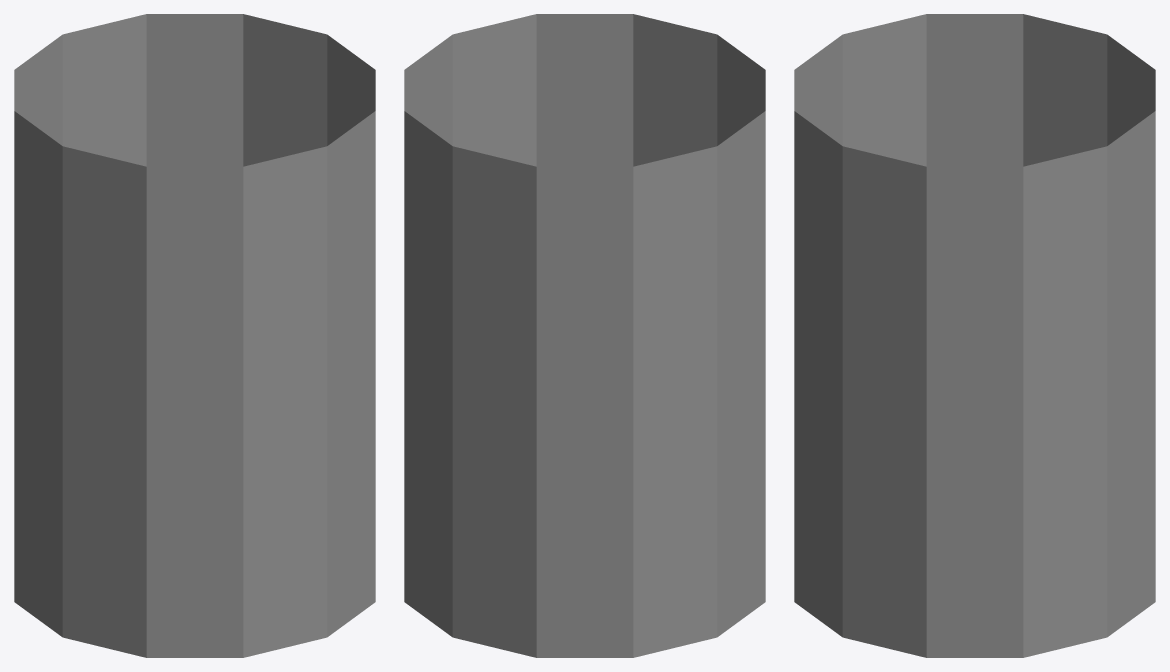
The model's file is Bin.fbx.
3 renders of one model, left to right at view 1: azimuth 30°, elevation 25°; view 2: azimuth 150°, elevation 25°; view 3: azimuth 270°, elevation 25°, orthographic.
Visible parts, largest first — view 1: cylinder; view 2: cylinder; view 3: cylinder.
Part boxes in pixels (x1=…): cylinder: x1=14, y1=14, x2=375, y2=657; cylinder: x1=404, y1=14, x2=765, y2=657; cylinder: x1=794, y1=14, x2=1155, y2=657.
Bounding box in the file's own units: 100 × 150 × 100.
1 material, 1 textured.
